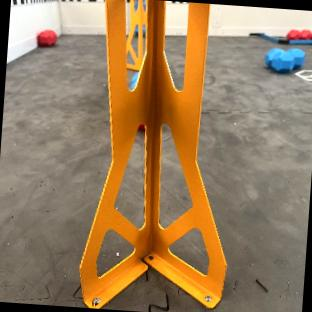Goal: (80, 0, 224, 307)
Parking - B: (249, 32, 312, 44)
V5_BLUE: (265, 47, 304, 71)
V5_RED: (38, 29, 56, 45), (297, 29, 312, 38), (286, 29, 299, 38), (138, 124, 145, 129)
